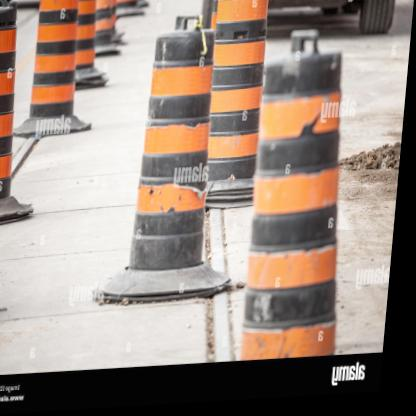obstacle: (244, 44, 361, 366), (131, 22, 222, 275), (208, 4, 275, 214)
